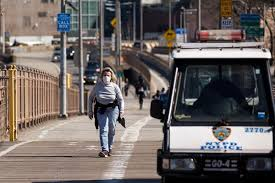mask: (97, 63, 117, 86)
